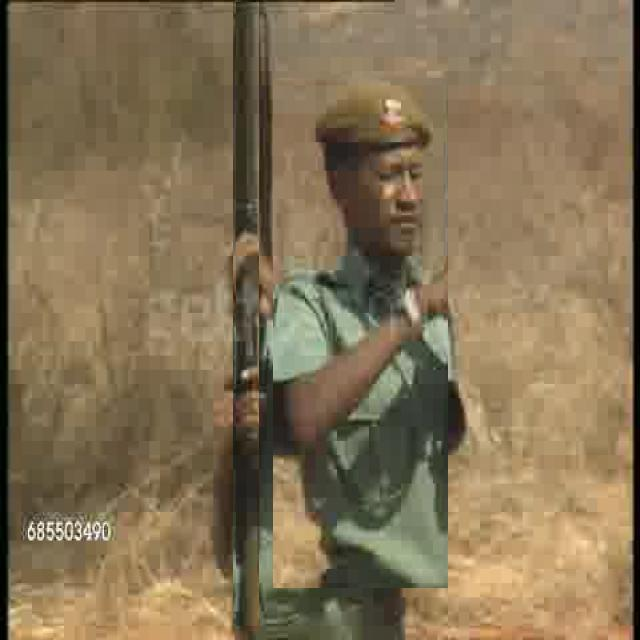poacher: (273, 79, 448, 588)
weapon: (233, 2, 259, 631)
